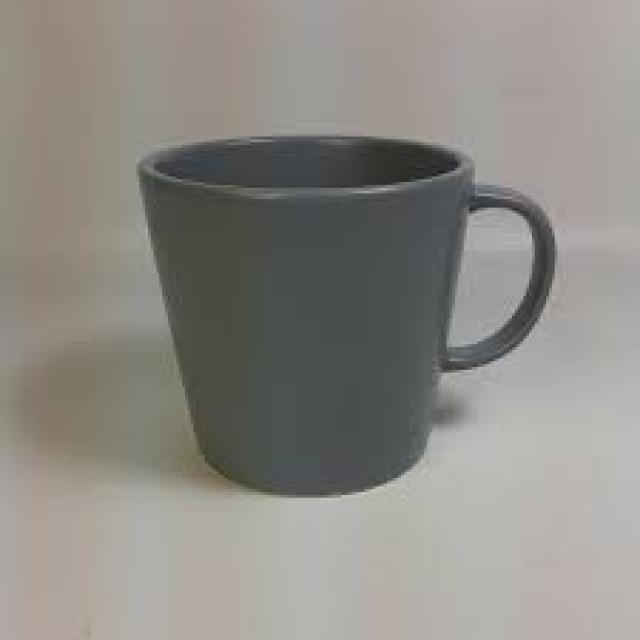taza: (137, 133, 557, 500)
